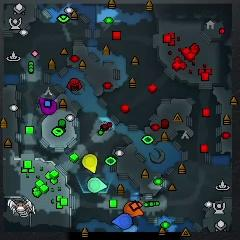p1: (111, 213, 133, 230)
p2: (87, 176, 107, 194)
p3: (38, 96, 57, 115)
p4: (81, 153, 98, 174)
p5: (124, 201, 144, 218)
